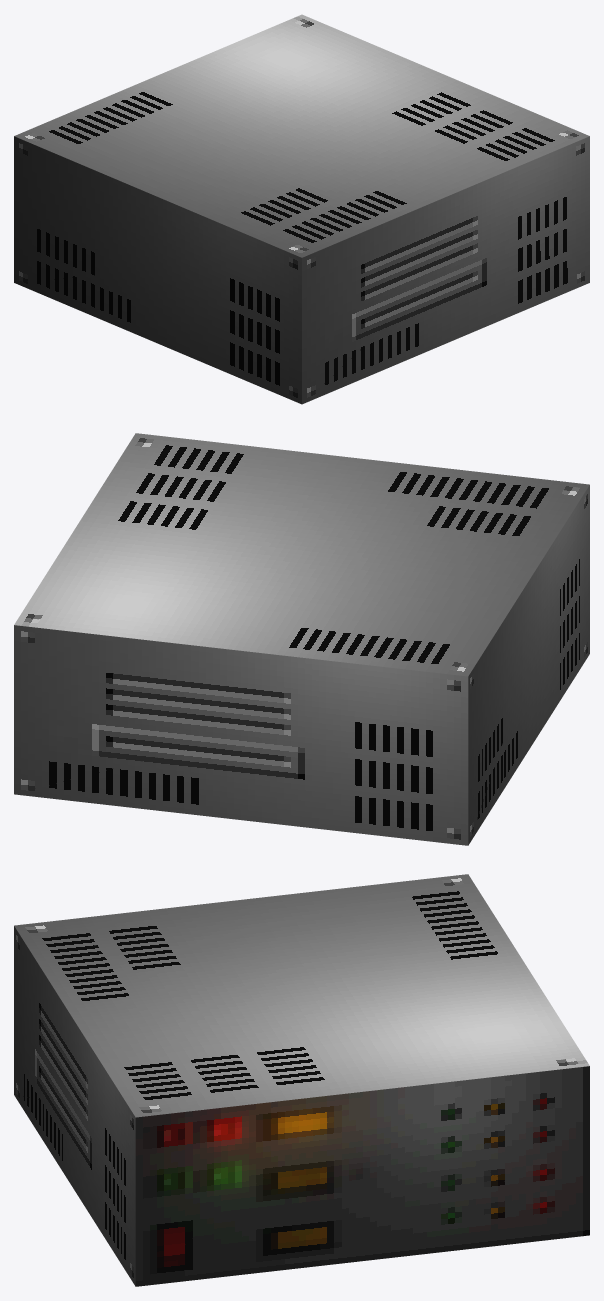
Rendered from primary_175.glb.
3 renders of one model, top to bottom at view 1: azimuth 30°, elevation 25°; view 2: azimuth 150°, elevation 25°; view 3: azimuth 270°, elevation 25°, orthographic. The views are drawn at different scales.
Visible parts, largest first — view 1: Object; view 2: Object; view 3: Object.
Boxes of the visible parts, x1=… form: Object: x1=14, y1=14, x2=589, y2=404; Object: x1=14, y1=433, x2=589, y2=845; Object: x1=14, y1=874, x2=589, y2=1286.
Bounding box in the file's own units: 0.485 × 0.1573 × 0.485.
Materials: 7 (7 with a texture image).
